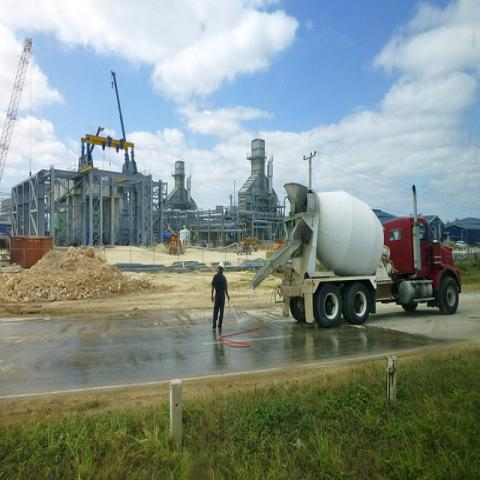car: (454, 241, 466, 250)
truck: (250, 185, 464, 330)
